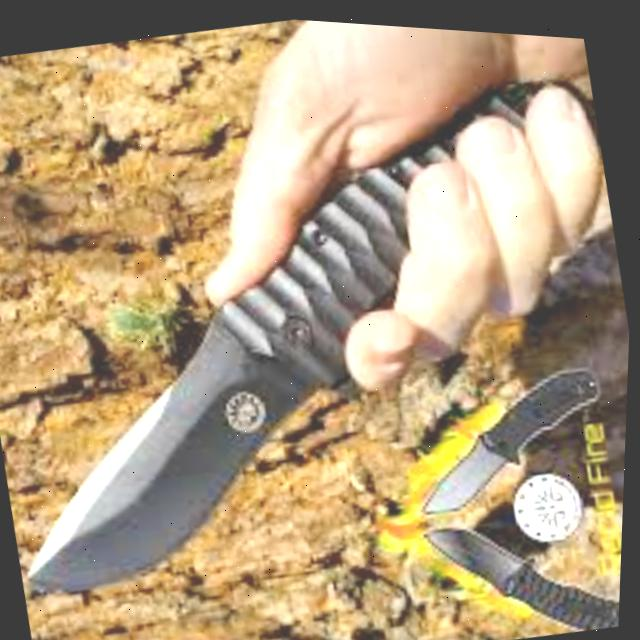pocket-knife: (0, 31, 639, 640)
